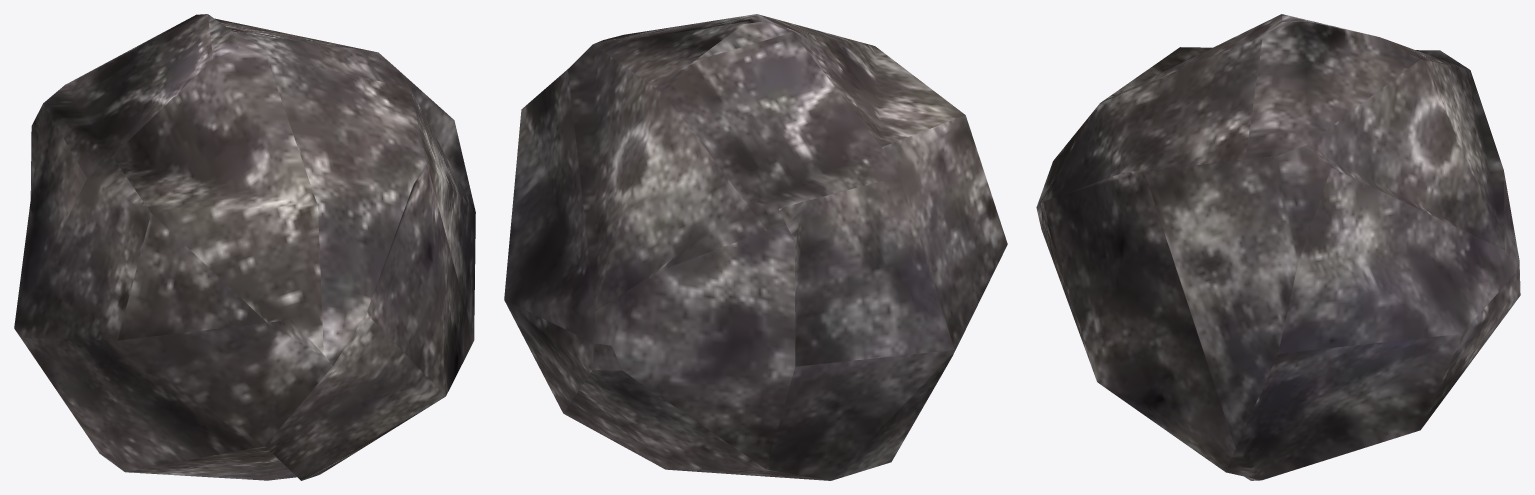
Rendered from Asteroid1-low.glb.
The picture shows the model from 3 angles, left to right: view 1: azimuth 30°, elevation 25°; view 2: azimuth 150°, elevation 25°; view 3: azimuth 270°, elevation 25°; orthographic projection. The views are drawn at different scales.
Parts seen in each view (by area): view 1: mesh_node; view 2: mesh_node; view 3: mesh_node.
Boxes of the visible parts, left/top/right/bottom form: mesh_node: left=14, top=14, right=475, bottom=480; mesh_node: left=504, top=14, right=1007, bottom=480; mesh_node: left=1036, top=14, right=1520, bottom=480.
Size of the model in its own units: 0.998 by 0.9492 by 0.9648.
Materials: 1 (1 with a texture image).
